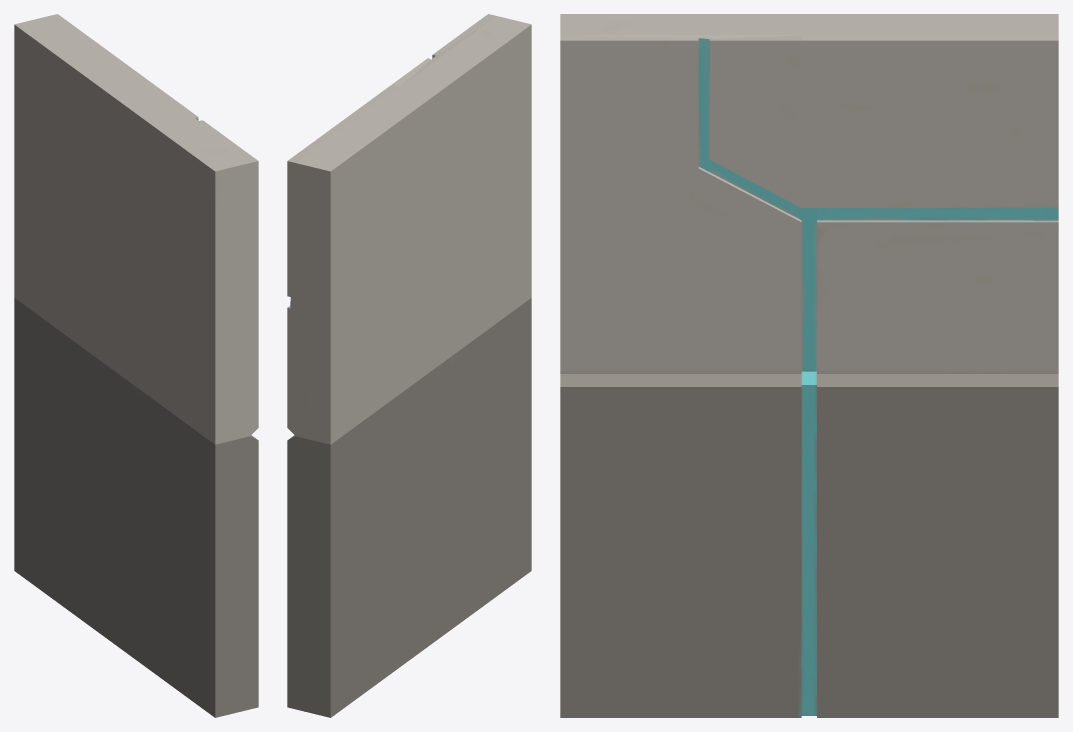
The model's file is Wall_Right.glb.
The picture shows the model from 3 angles, left to right: view 1: azimuth 30°, elevation 25°; view 2: azimuth 150°, elevation 25°; view 3: azimuth 270°, elevation 25°; orthographic projection. The views are drawn at different scales.
Parts seen in each view (by area): view 1: Wall_Right; view 2: Wall_Right; view 3: Wall_Right.
Boxes of the visible parts, x1,y1,x2,y2 form: Wall_Right: [14, 14, 258, 717]; Wall_Right: [287, 14, 531, 717]; Wall_Right: [560, 14, 1058, 717].
Size of the model in its own units: 0.375 by 4.5 by 3.
1 material, 1 textured.
